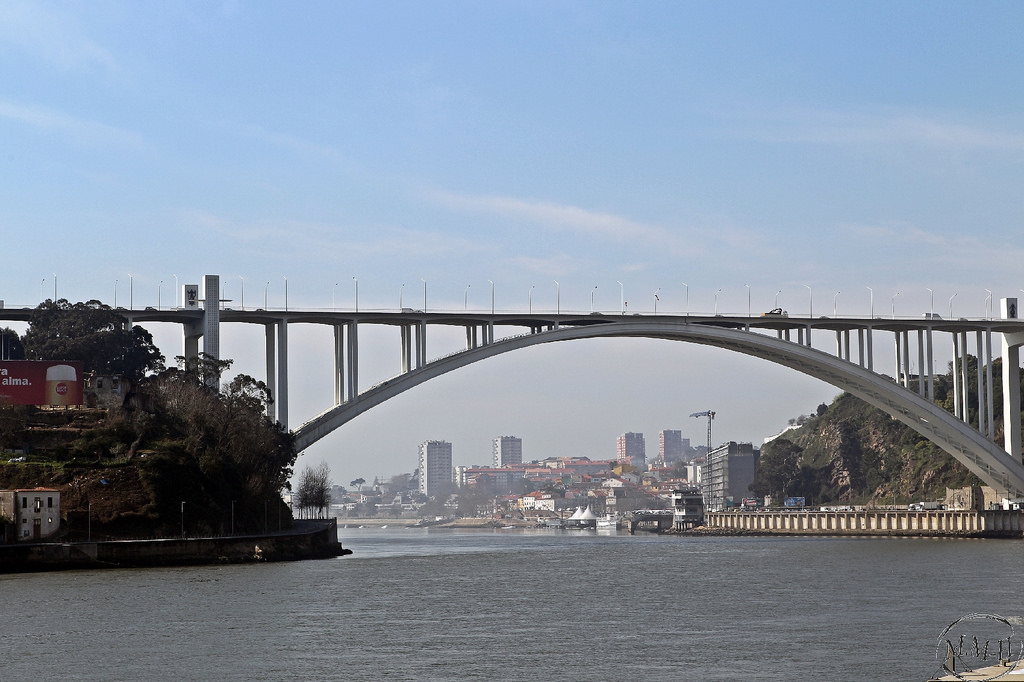arrabida: (0, 273, 1023, 509)
